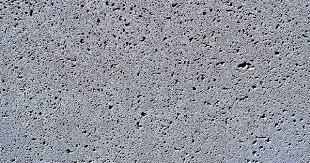Spalling: (1, 1, 310, 163)
